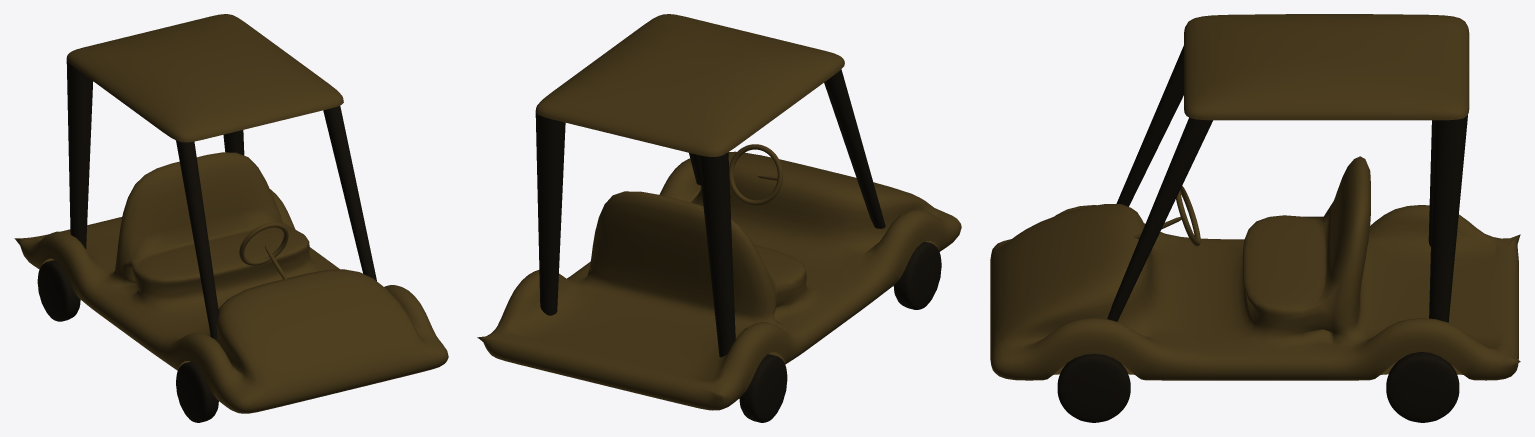
The model's file is cart3_yup.fbx.
The picture shows the model from 3 angles, left to right: view 1: azimuth 30°, elevation 25°; view 2: azimuth 150°, elevation 25°; view 3: azimuth 270°, elevation 25°; orthographic projection. The views are drawn at different scales.
Visible parts, largest first — view 1: Cart1, Cart1_001, Cart1_005, Cart1_004; view 2: Cart1, Cart1_001, Cart1_005, Cart1_004; view 3: Cart1, Cart1_001, Cart1_003, Cart1_002.
Part boxes in pixels (x1=…): Cart1: x1=14, y1=14, x2=448, y2=413; Cart1_001: x1=66, y1=60, x2=376, y2=338; Cart1_005: x1=37, y1=260, x2=80, y2=321; Cart1_004: x1=176, y1=361, x2=218, y2=422; Cart1: x1=477, y1=14, x2=961, y2=410; Cart1_001: x1=535, y1=69, x2=885, y2=357; Cart1_005: x1=739, y1=354, x2=787, y2=422; Cart1_004: x1=893, y1=241, x2=941, y2=309; Cart1: x1=990, y1=14, x2=1520, y2=380; Cart1_001: x1=1107, y1=45, x2=1467, y2=322; Cart1_003: x1=1386, y1=352, x2=1459, y2=422; Cart1_002: x1=1057, y1=353, x2=1130, y2=422.
Size of the model in its own units: 210 by 231 by 354.
